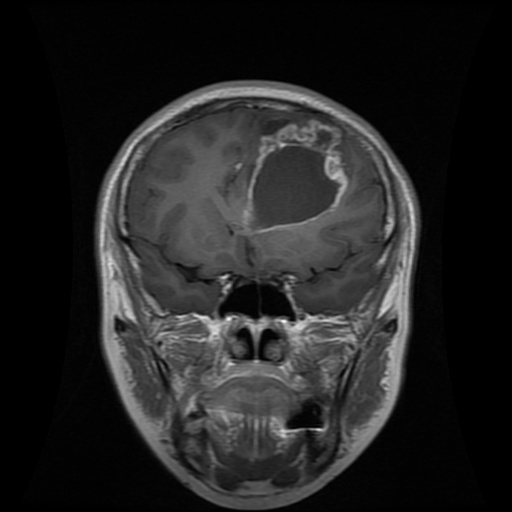glioma: (241, 114, 349, 236)
